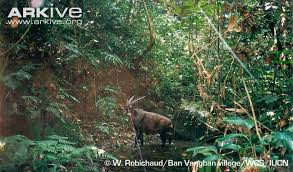sao_la: (120, 95, 175, 145)
